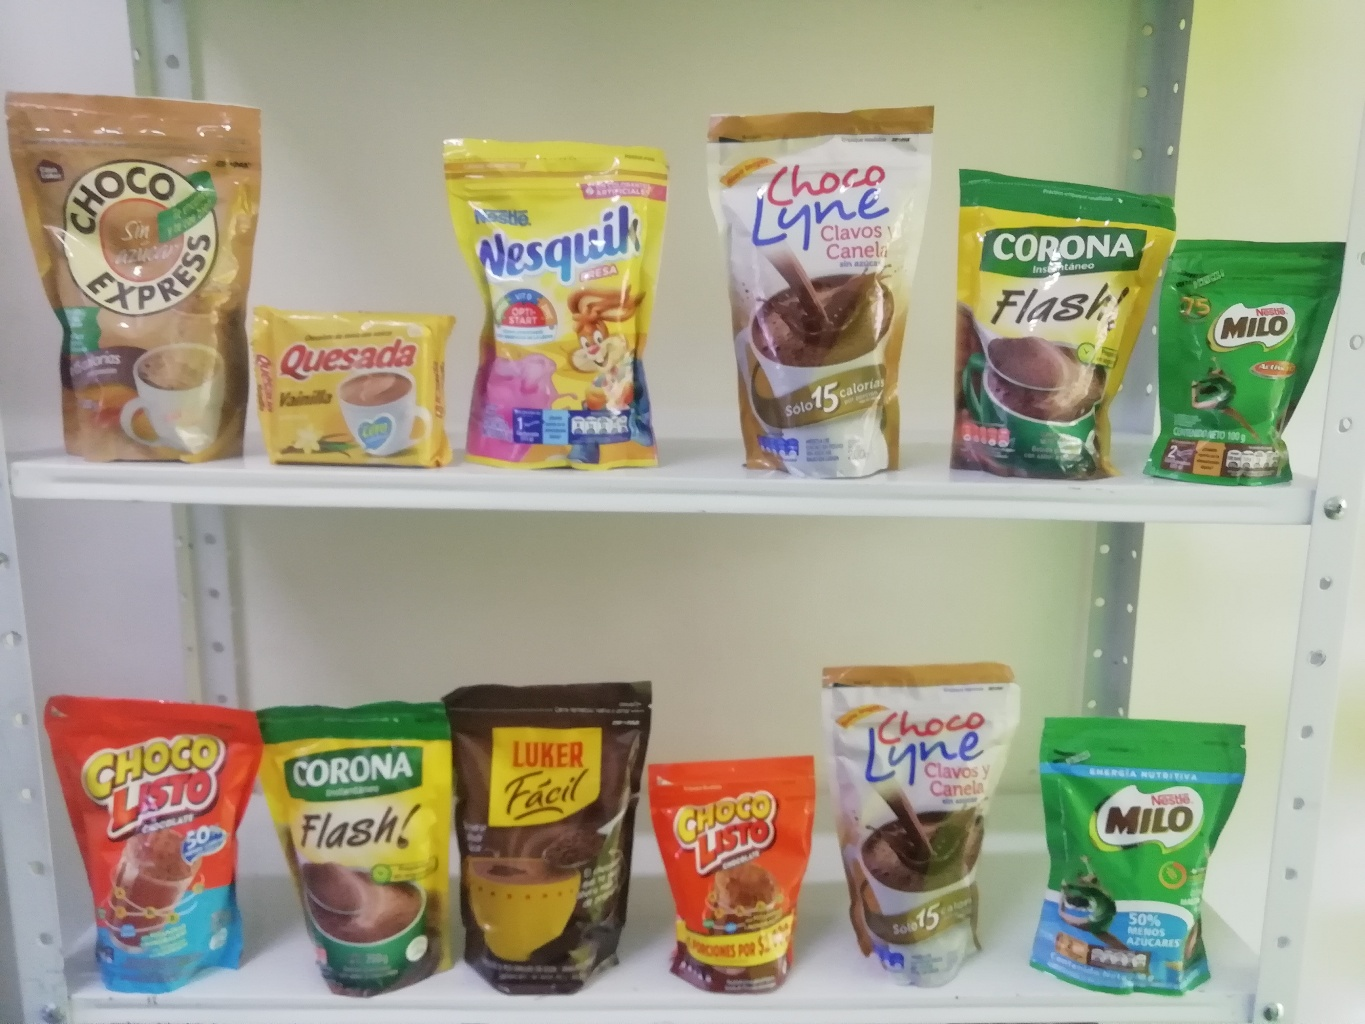COL0170104DYP20000: (45, 692, 264, 991)
COL0170203DYP10000: (1164, 231, 1357, 490)
COL0170205DYP20000: (1040, 714, 1249, 996)
COL0170305DYP20000: (440, 136, 667, 473)
